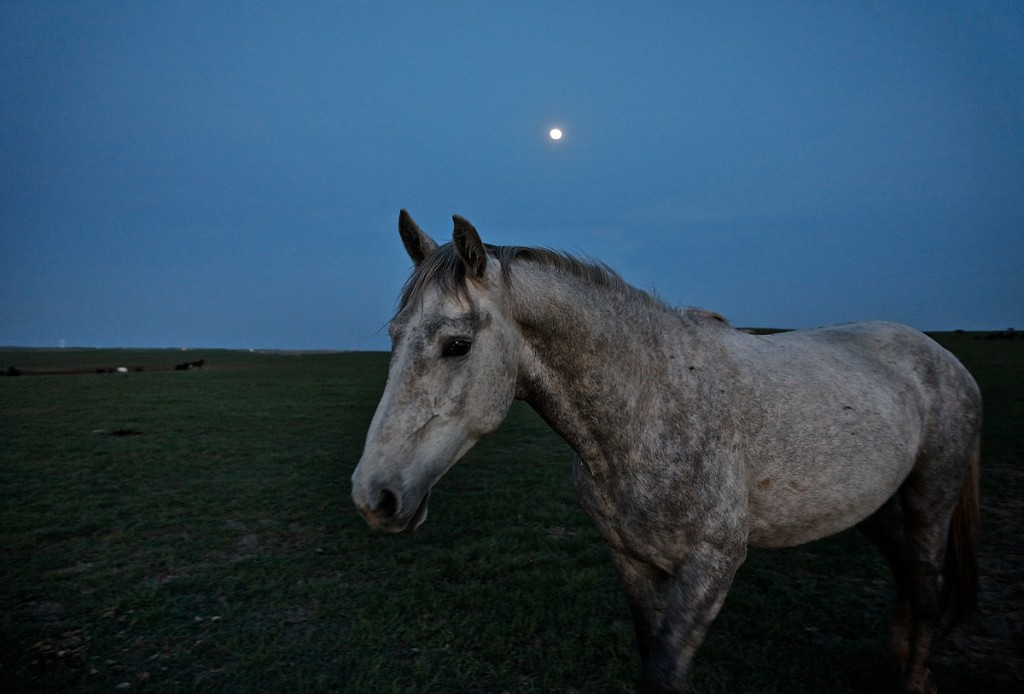Horse: (342, 182, 966, 662)
